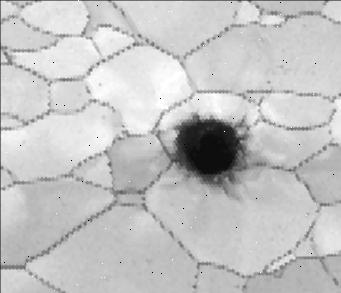good_void: (157, 109, 259, 203), (264, 78, 272, 85), (98, 81, 103, 89)
